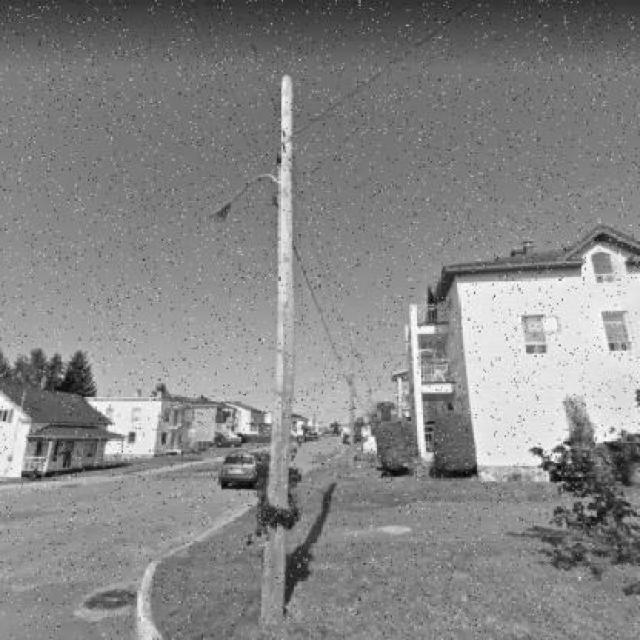pole: (199, 37, 353, 640)
